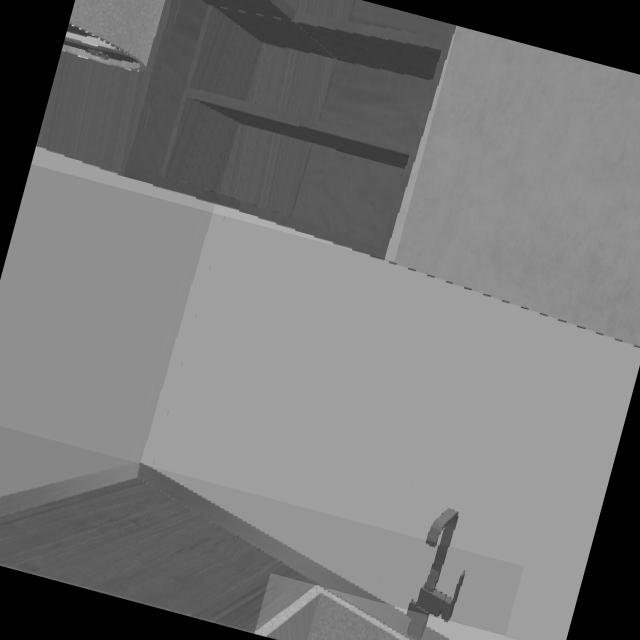countertop: (0, 464, 411, 640)
shelf: (35, 0, 457, 259)
sink: (255, 586, 413, 640)
